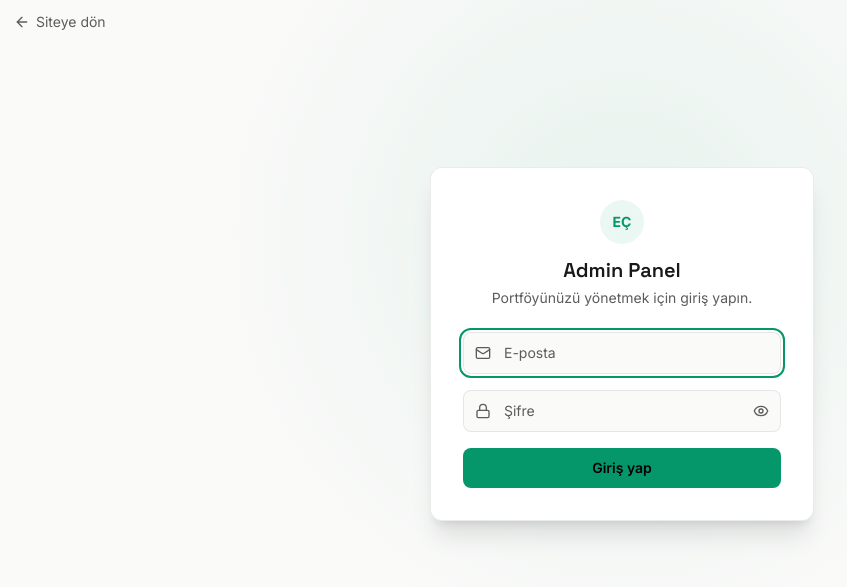
AdminLogin › shows an error message when signIn rejects
Type "admin@example.com" into the field with placeholder "E-posta".
click(622, 353); type("admin@example.com")  # box [463,332,781,374]
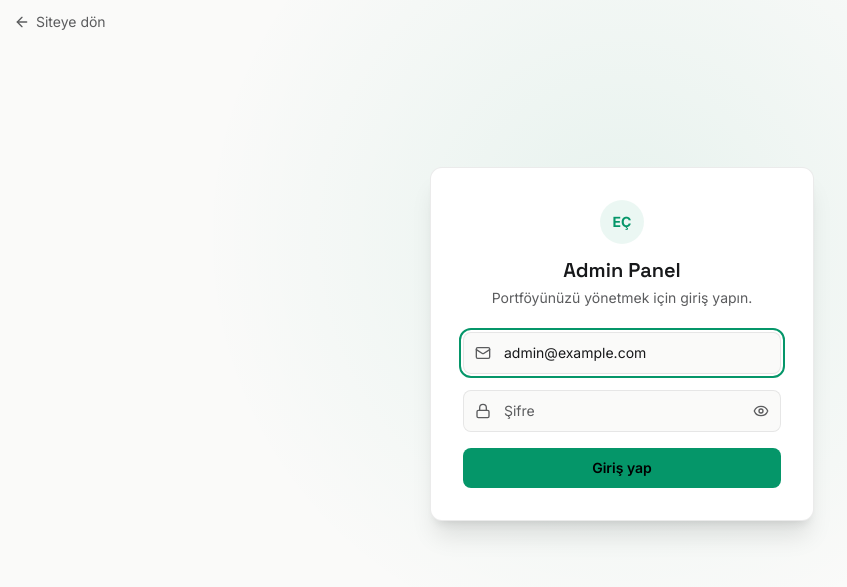
Type "wrong" into the password field with placeholder "Şifre".
click(622, 411); type("wrong")  # box [463,390,781,432]
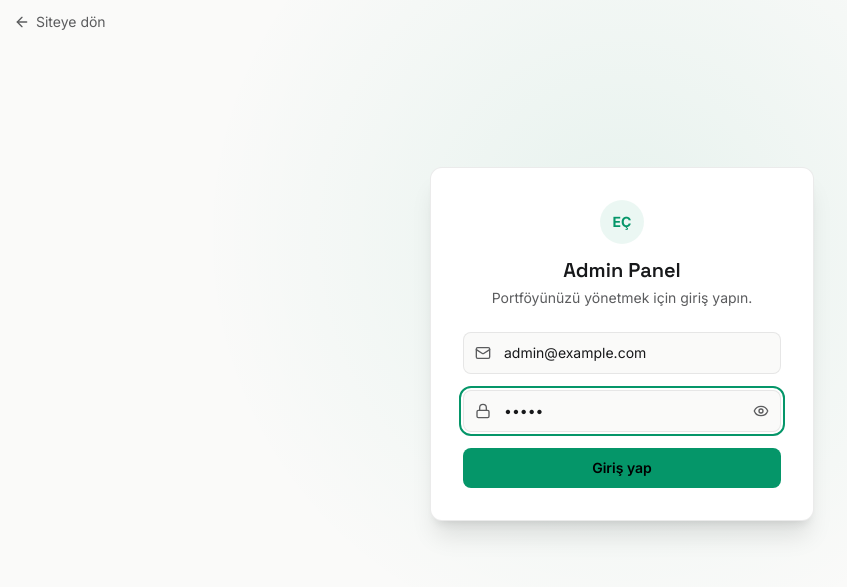
Click the button "Giriş yap".
click(622, 468)  # box [463,448,781,488]
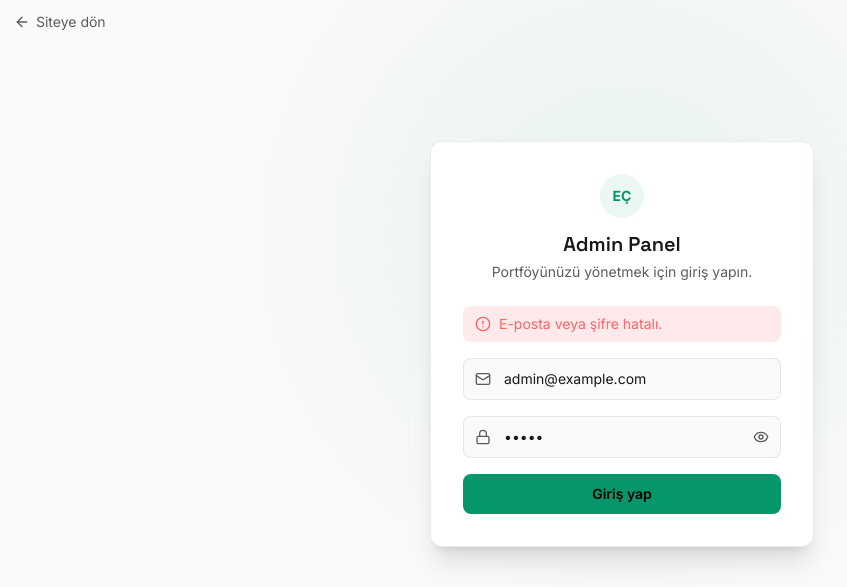
Expected: the text "E-posta veya şifre hatalı." is shown, [463,306,781,342]
